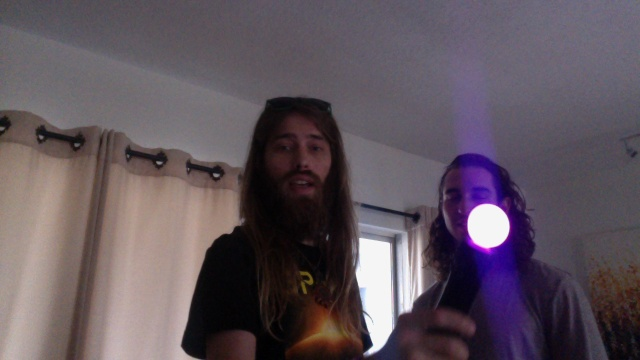wand: (467, 204, 510, 248)
